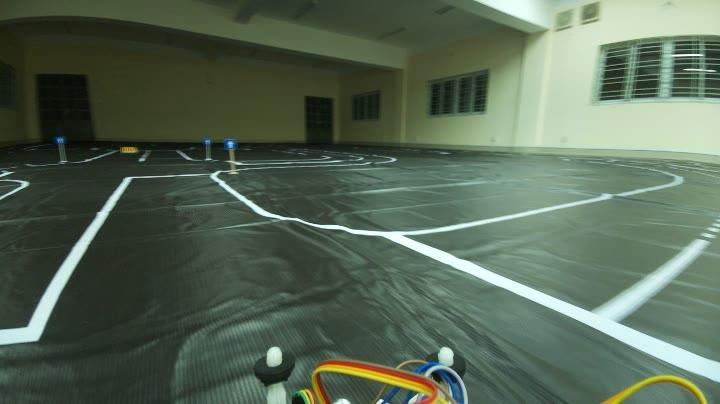onewayroad: (225, 134, 241, 151), (203, 133, 214, 148), (53, 136, 65, 144)
roadblock: (120, 142, 144, 156)
